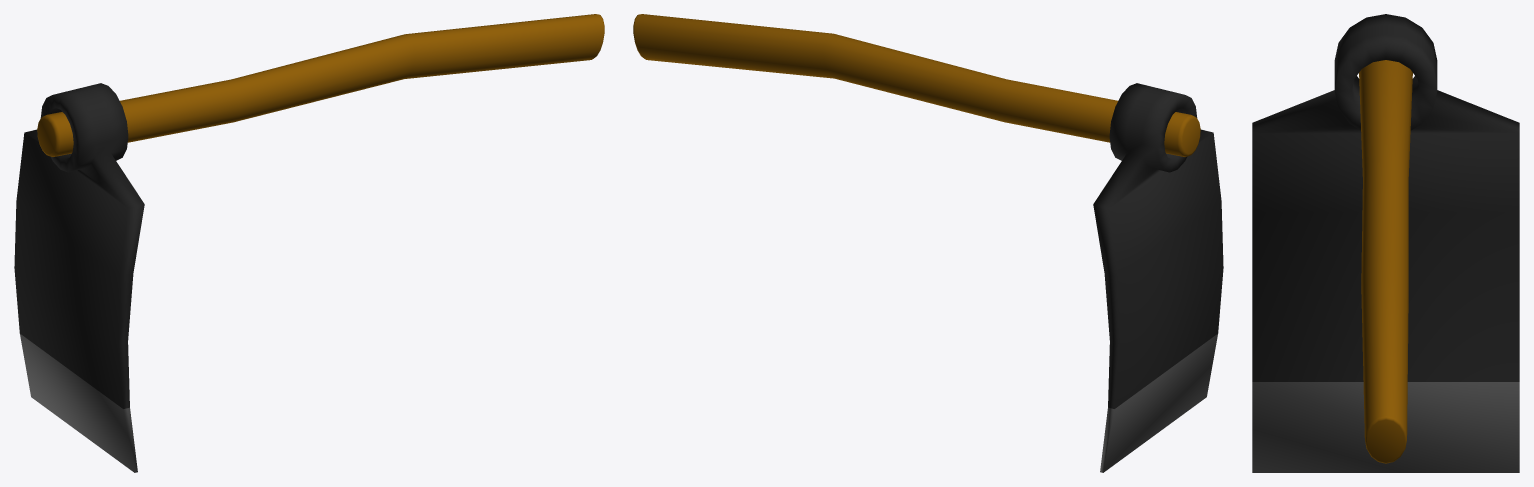
File: cangkul.glb
The picture shows the model from 3 angles, left to right: view 1: azimuth 30°, elevation 25°; view 2: azimuth 150°, elevation 25°; view 3: azimuth 270°, elevation 25°; orthographic projection. The views are drawn at different scales.
Visible parts, largest first — view 1: besi, gagang; view 2: besi, gagang; view 3: besi, gagang.
Boxes of the visible parts, x1,y1,x2,y2 form: besi: (14,83,144,472); gagang: (37,14,604,156); besi: (1093,83,1223,472); gagang: (633,14,1200,156); besi: (1252,14,1519,472); gagang: (1359,60,1412,463).
Bounding box in the file's own units: 0.5602 × 0.3307 × 0.1811.
